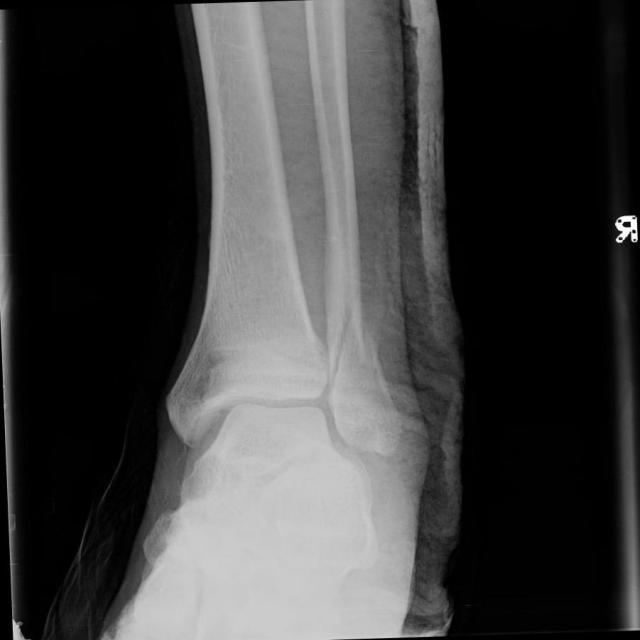Oblique Displaced: (313, 284, 382, 421)
